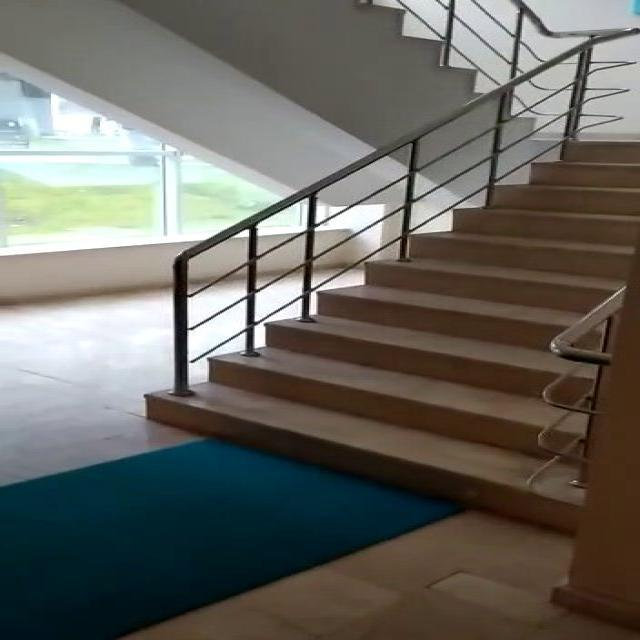stair: (149, 109, 637, 537)
